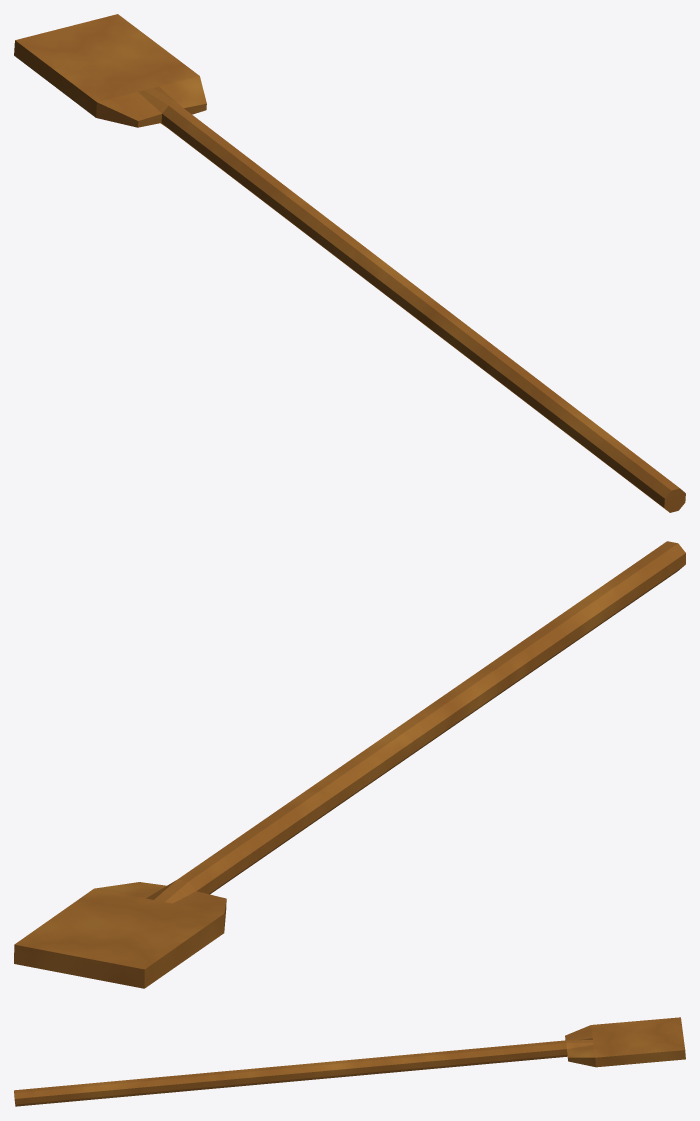
File: Oar.fbx
3 renders of one model, top to bottom at view 1: azimuth 30°, elevation 25°; view 2: azimuth 150°, elevation 25°; view 3: azimuth 270°, elevation 25°, orthographic. The views are drawn at different scales.
Visible parts, largest first — view 1: Oar; view 2: Oar; view 3: Oar.
Boxes of the visible parts, x1,y1,x2,y2 form: Oar: (14,14,685,512); Oar: (14,541,685,988); Oar: (14,1017,685,1106).
Bounding box in the file's own units: 55.24 × 41.59 × 449.
